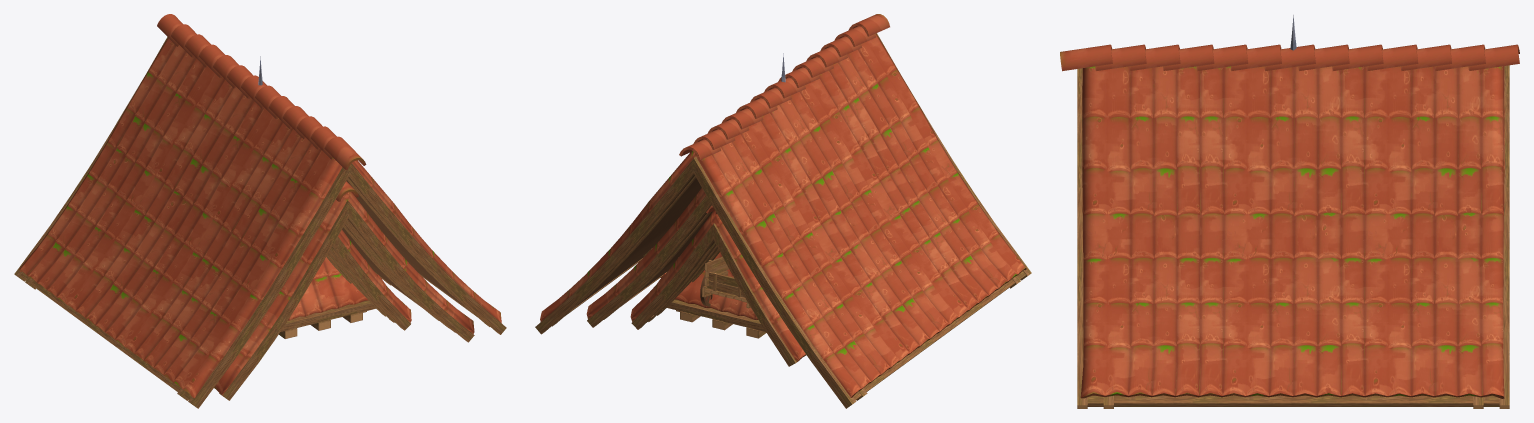
The model's file is kit-village.glb.
3 views of the same model, side by side, from view 1: azimuth 30°, elevation 25°; view 2: azimuth 150°, elevation 25°; view 3: azimuth 270°, elevation 25° (orthographic). The views are drawn at different scales.
Visible parts, largest first — view 1: Roof_RoundTiles_8x8, Roof_RoundTiles_6x4, Roof_Tower_RoundTiles, Roof_RoundTiles_4x6, Roof_RoundTiles_6x6; view 2: Roof_RoundTiles_8x8, Roof_RoundTiles_4x6, Roof_RoundTiles_6x6, Roof_Tower_RoundTiles, Prop_Wagon; view 3: Roof_RoundTiles_8x8.
Boxes of the visible parts, <box> form: Roof_RoundTiles_8x8: <box>14,14,506,408</box>; Roof_RoundTiles_6x4: <box>214,181,474,400</box>; Roof_Tower_RoundTiles: <box>258,56,385,338</box>; Roof_RoundTiles_4x6: <box>330,230,411,330</box>; Roof_RoundTiles_6x6: <box>343,222,449,328</box>; Roof_RoundTiles_8x8: <box>535,14,1031,408</box>; Roof_RoundTiles_4x6: <box>630,205,806,366</box>; Roof_RoundTiles_6x6: <box>586,188,712,327</box>; Roof_Tower_RoundTiles: <box>658,53,785,338</box>; Prop_Wagon: <box>700,256,750,308</box>; Roof_RoundTiles_8x8: <box>1060,44,1519,408</box>.
Bounding box in the file's own units: 9.95 × 8.91 × 10.33.
Materials: 10 (9 with a texture image).
